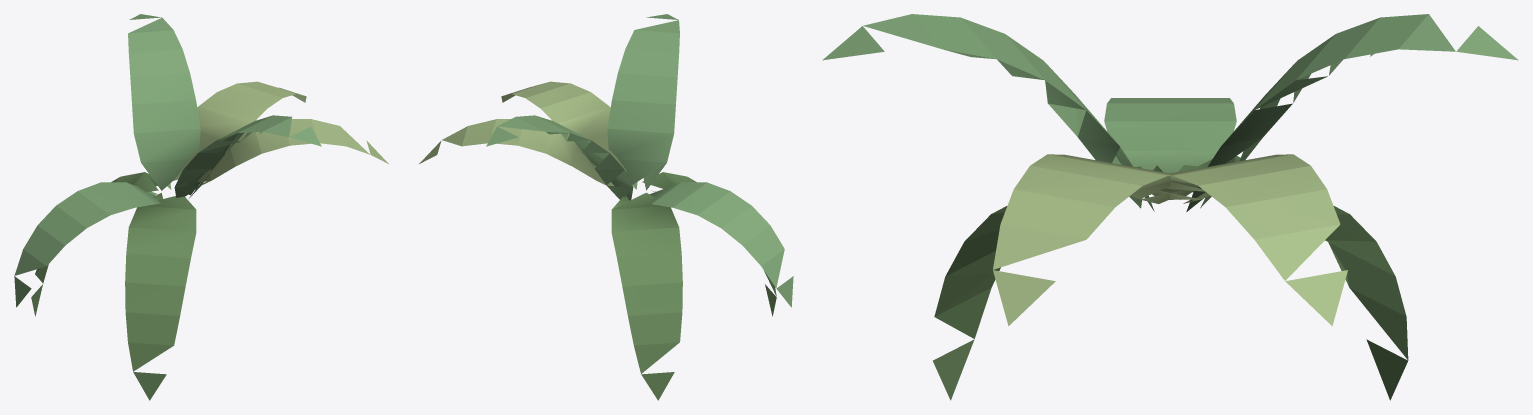
The model's file is palm.lod.glb.
3 views of the same model, side by side, from view 1: azimuth 30°, elevation 25°; view 2: azimuth 150°, elevation 25°; view 3: azimuth 270°, elevation 25° (orthographic). The views are drawn at different scales.
Parts seen in each view (by area): view 1: palm; view 2: palm; view 3: palm.
Part boxes in pixels (x1=…): palm: x1=14, y1=14, x2=388, y2=400; palm: x1=419, y1=14, x2=793, y2=400; palm: x1=822, y1=14, x2=1518, y2=400.
Size of the model in its own units: 6.43 by 4.68 by 6.1.
